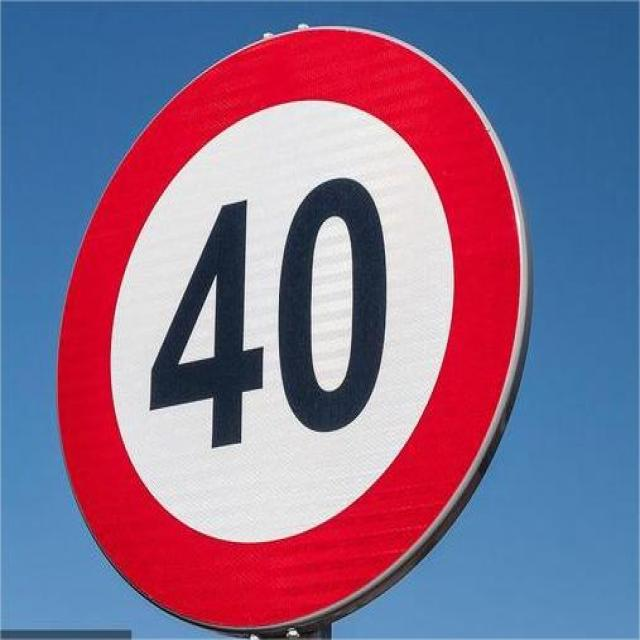speed limit 40: (56, 24, 532, 638)
